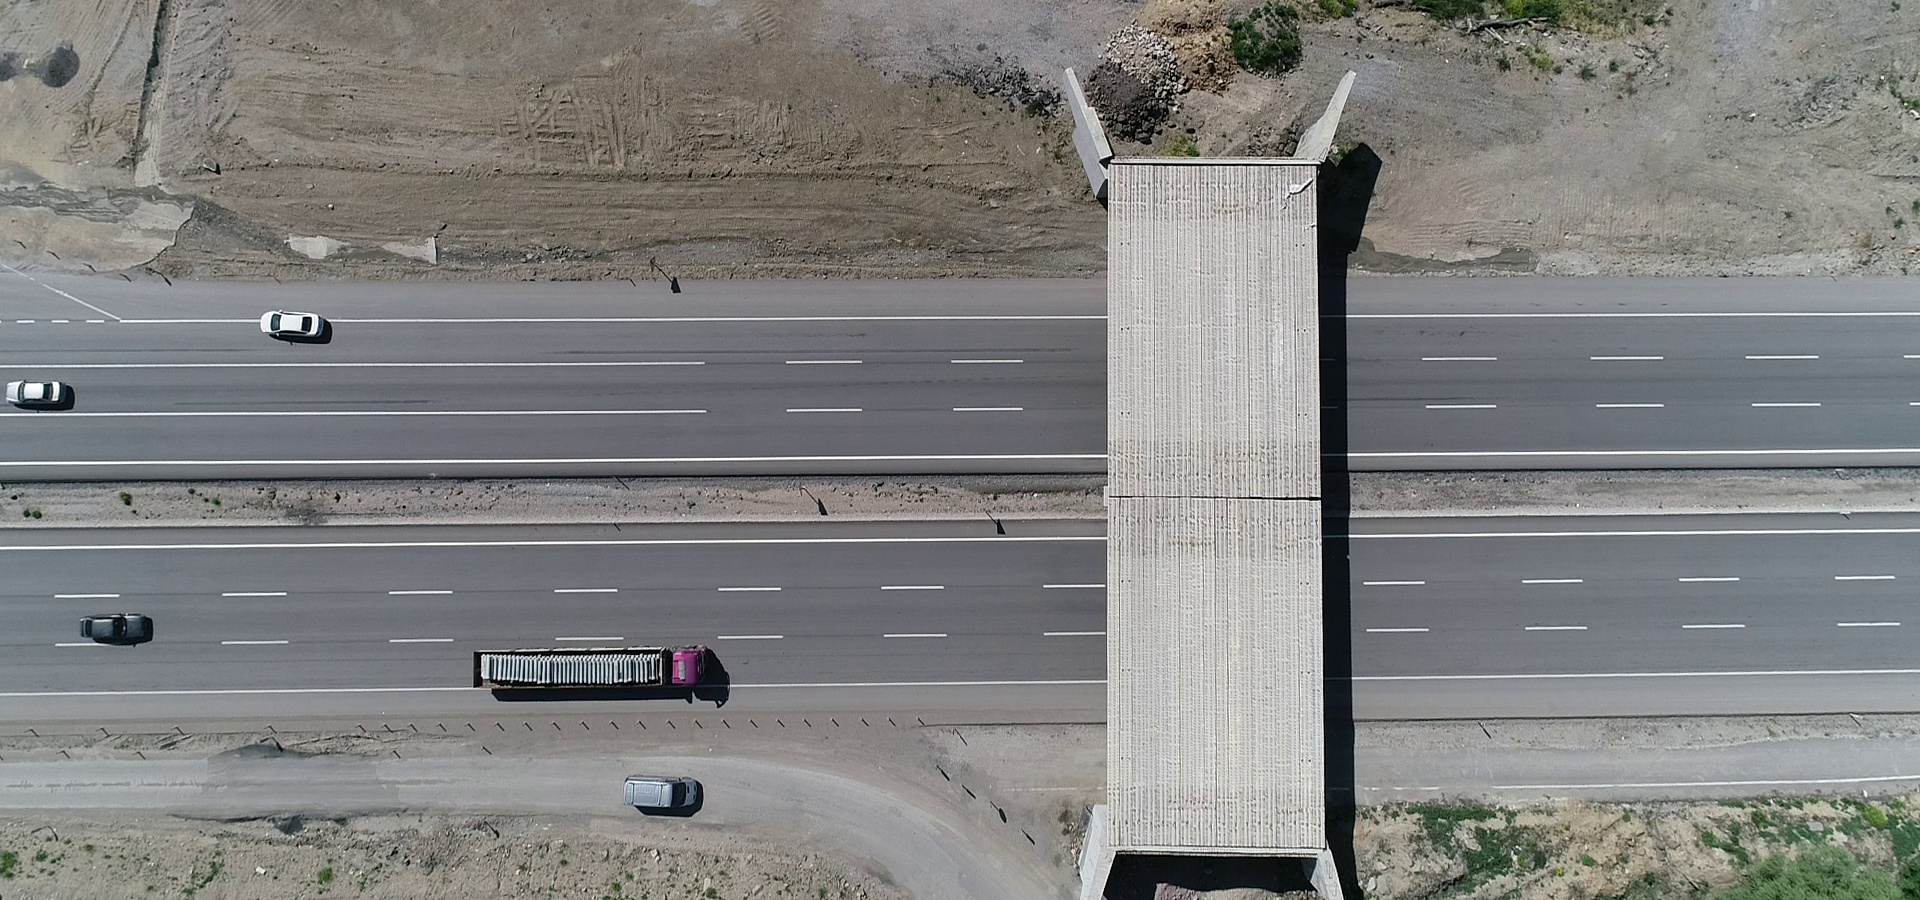arac: (471, 638, 718, 696), (620, 763, 707, 817), (1, 371, 80, 409), (78, 615, 167, 645), (260, 309, 326, 338)
